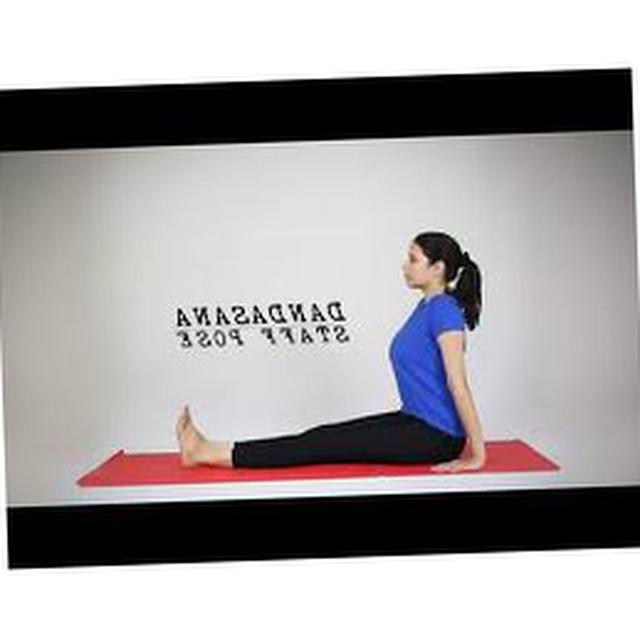Staff_Pose: (176, 230, 488, 473)
